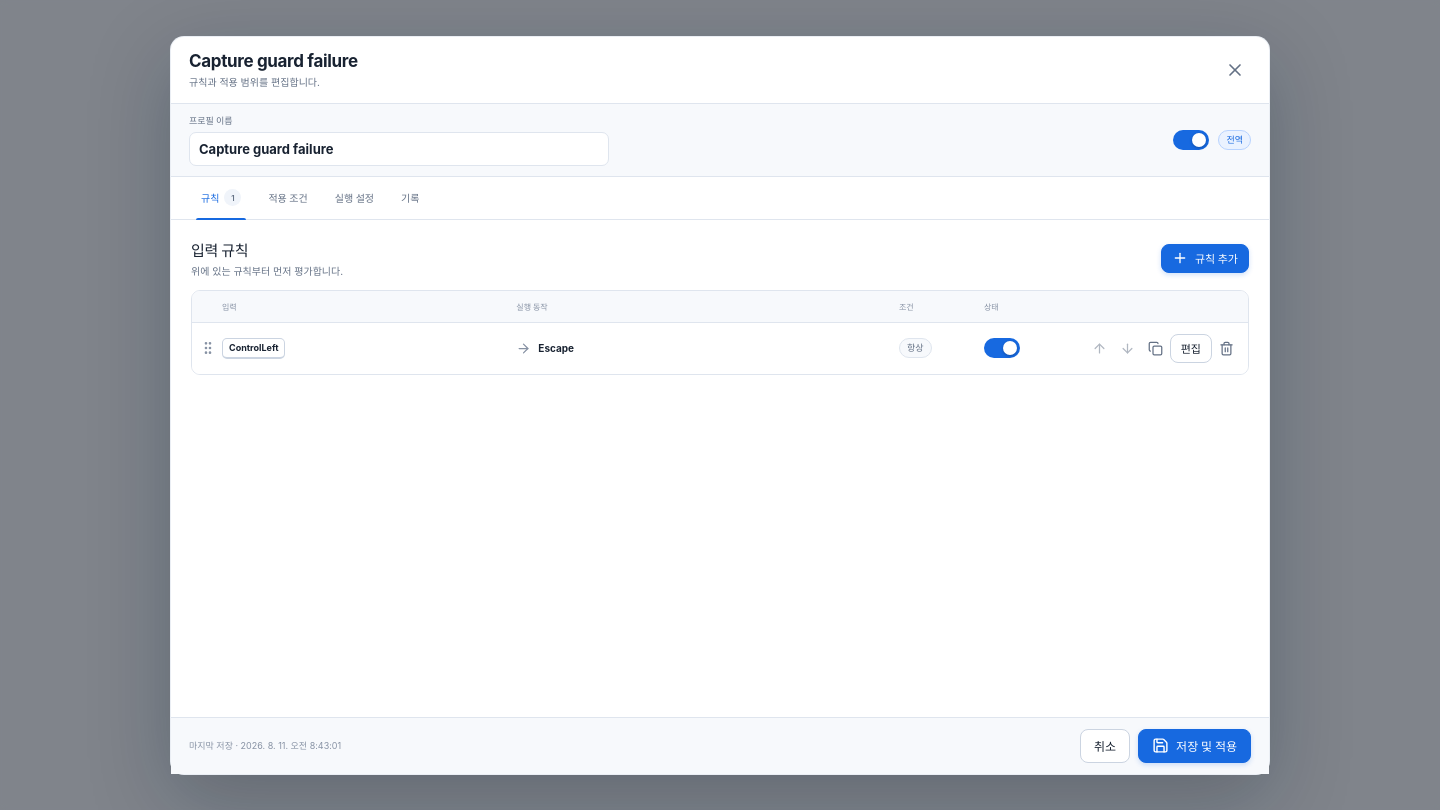
ProfileEditor › does not open a capture dialog when native capture cannot be started
Click the button "편집": (1191, 348) [1170,334,1212,362]
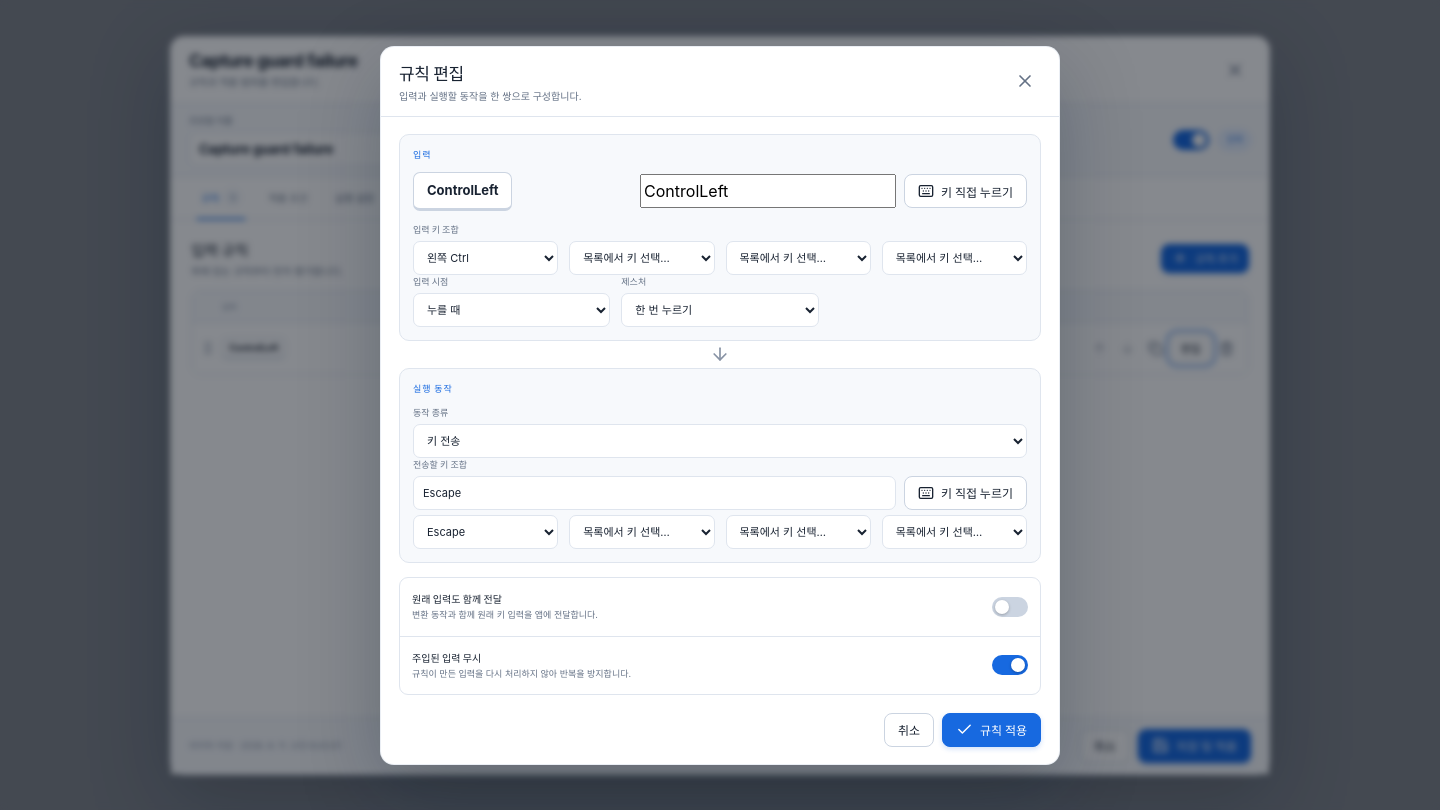
Click the button with aria-label "입력 키 직접 누르기": (966, 191) [904,174,1027,208]
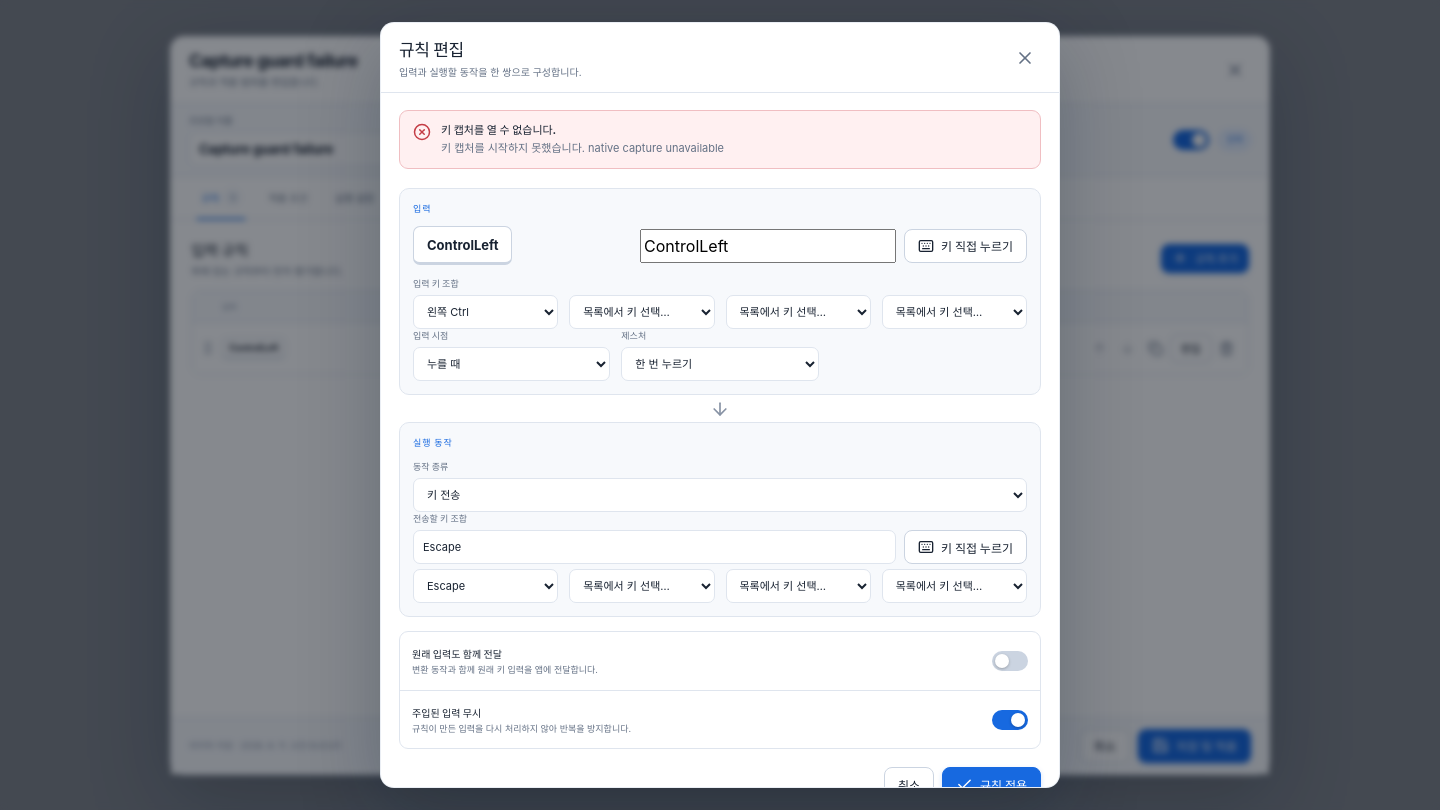
Expected: the text "키 캡처를 시작하지 못했습니다. native capture unavailable" is shown, [441,140,724,157]
